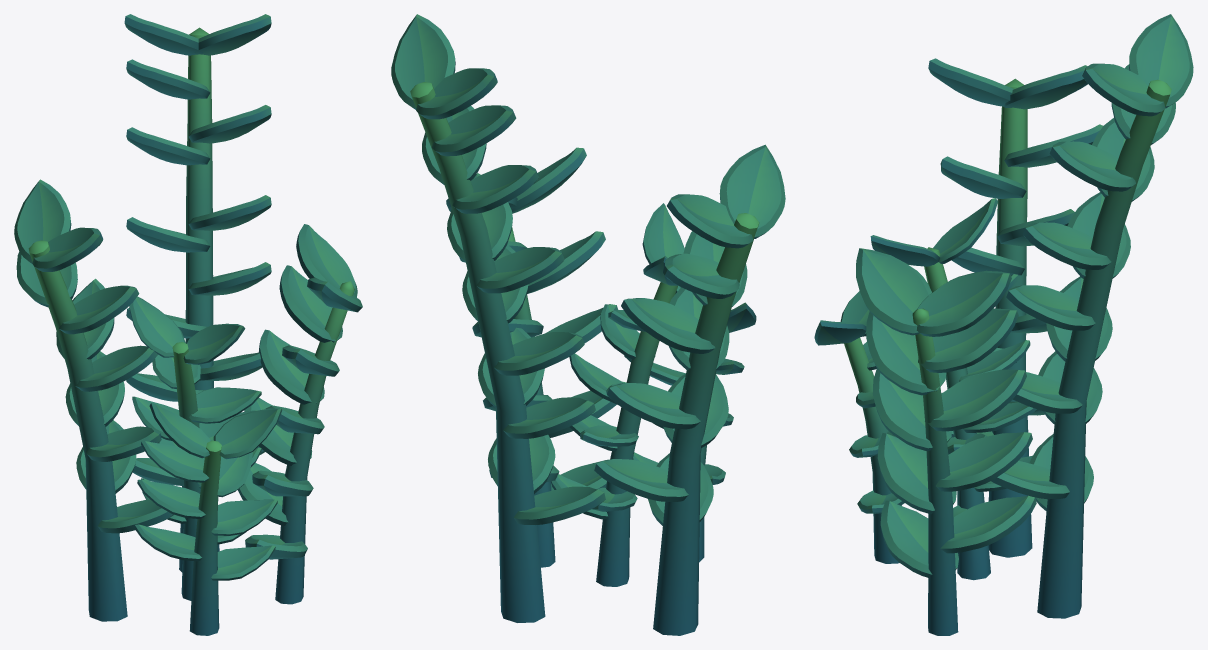
Rendered from Zz Plant (1).glb.
The picture shows the model from 3 angles, left to right: view 1: azimuth 30°, elevation 25°; view 2: azimuth 150°, elevation 25°; view 3: azimuth 270°, elevation 25°; orthographic projection. The views are drawn at different scales.
Parts seen in each view (by area): view 1: zzplant_plant_large; view 2: zzplant_plant_large; view 3: zzplant_plant_large.
Part boxes in pixels (x1,y1,x2,y2): zzplant_plant_large: (14,14,362,635); zzplant_plant_large: (391,14,785,635); zzplant_plant_large: (814,14,1193,635).
Size of the model in its own units: 1.58 by 2.64 by 1.55.
Materials: 1 (1 with a texture image).
